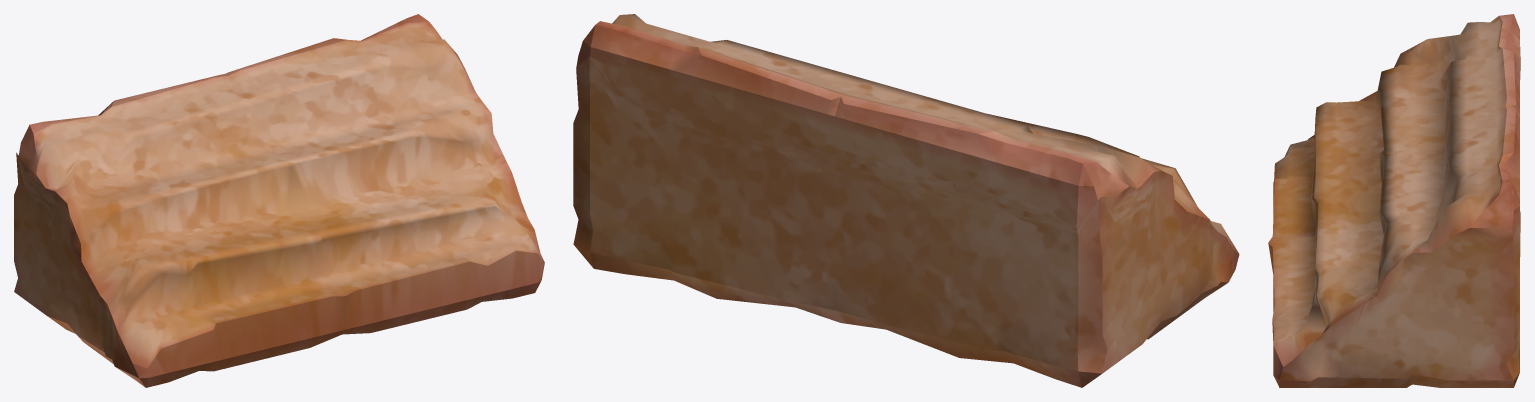
File: sand_stair.fbx
3 views of the same model, side by side, from view 1: azimuth 30°, elevation 25°; view 2: azimuth 150°, elevation 25°; view 3: azimuth 270°, elevation 25° (orthographic). The views are drawn at different scales.
Visible parts, largest first — view 1: desert_steps; view 2: desert_steps; view 3: desert_steps.
Boxes of the visible parts, x1=… form: desert_steps: x1=14, y1=14, x2=544, y2=387; desert_steps: x1=573, y1=14, x2=1239, y2=387; desert_steps: x1=1268, y1=14, x2=1520, y2=387.
Bounding box in the file's own units: 200 × 88.2 × 102.
